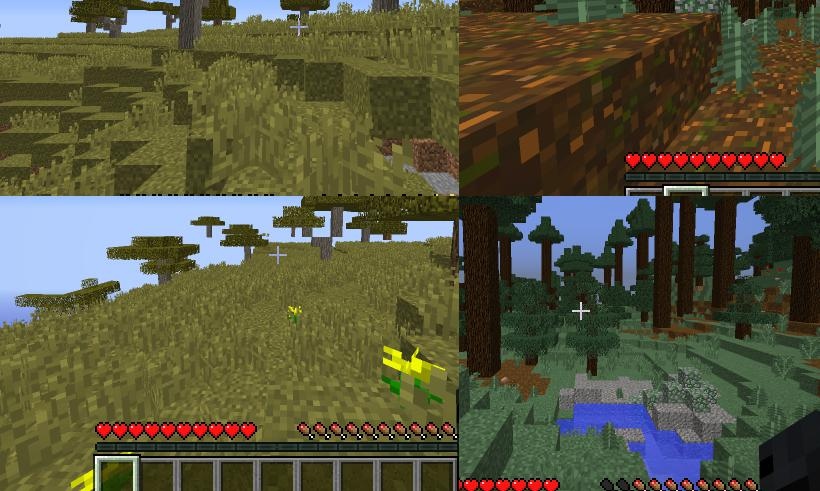minecraft-blocks: (465, 209, 499, 377), (712, 202, 739, 313), (157, 1, 209, 49), (652, 197, 670, 333), (788, 247, 820, 322), (313, 208, 346, 262), (362, 1, 435, 20), (541, 242, 553, 289), (362, 229, 371, 245), (213, 18, 223, 30), (245, 247, 252, 261), (207, 226, 213, 239)
